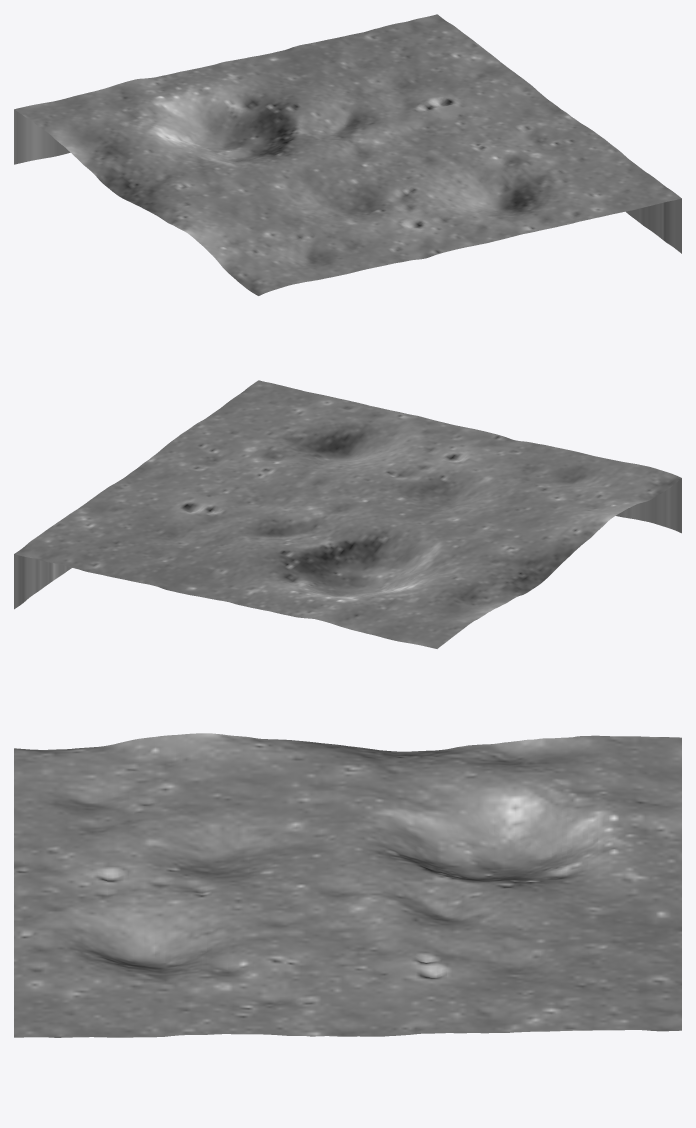
3 views of the same model, one above another, from view 1: azimuth 30°, elevation 25°; view 2: azimuth 150°, elevation 25°; view 3: azimuth 270°, elevation 25° (orthographic). The views are drawn at different scales.
Bounding box in the file's own units: 639 × 104 × 639.
Materials: 1 (1 with a texture image).
